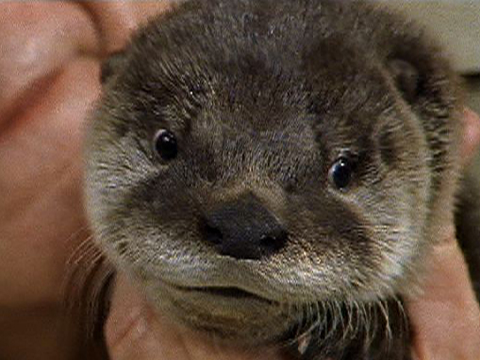otter: (88, 1, 469, 360)
